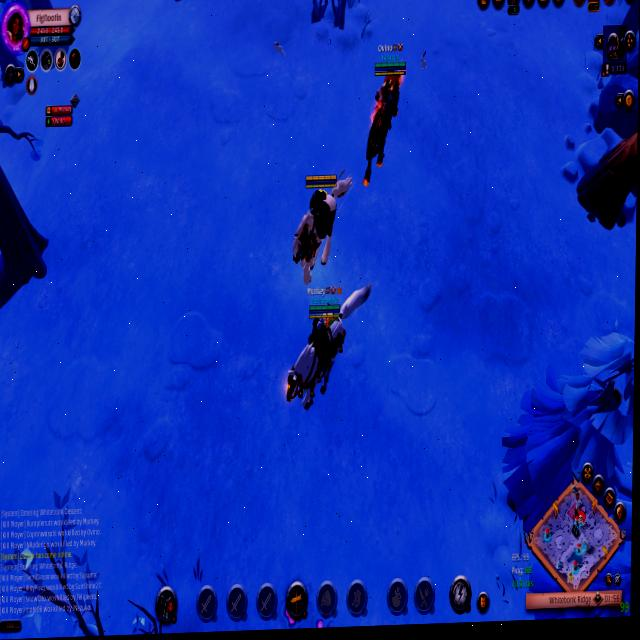red: (281, 281, 374, 420), (290, 166, 355, 288), (361, 35, 409, 193)
tree: (575, 127, 638, 243)
